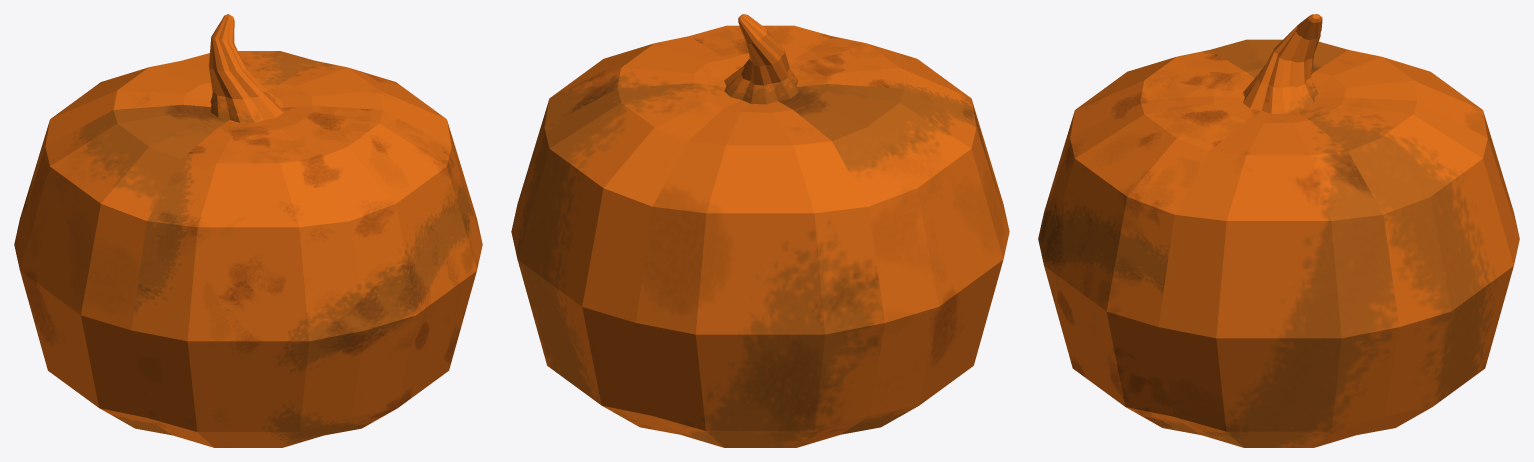
File: Pumpkin0015.fbx
The picture shows the model from 3 angles, left to right: view 1: azimuth 30°, elevation 25°; view 2: azimuth 150°, elevation 25°; view 3: azimuth 270°, elevation 25°; orthographic projection. The views are drawn at different scales.
Parts seen in each view (by area): view 1: Pumpkin0015; view 2: Pumpkin0015; view 3: Pumpkin0015.
Boxes of the visible parts, bbox=[...] form: Pumpkin0015: bbox=[14, 14, 482, 447]; Pumpkin0015: bbox=[511, 14, 1009, 447]; Pumpkin0015: bbox=[1038, 14, 1519, 447].
Size of the model in its own units: 35.09 by 30.93 by 35.94.
